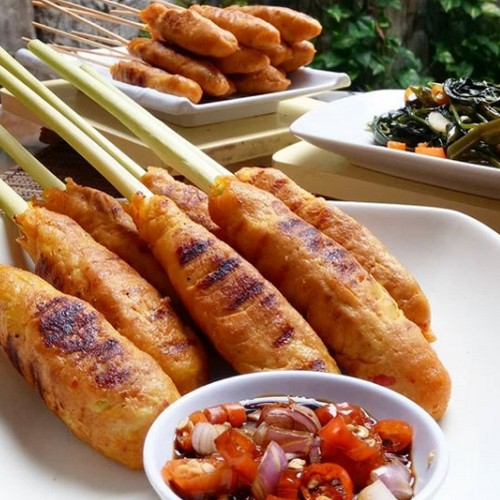sate lilit: (1, 108, 176, 400)
